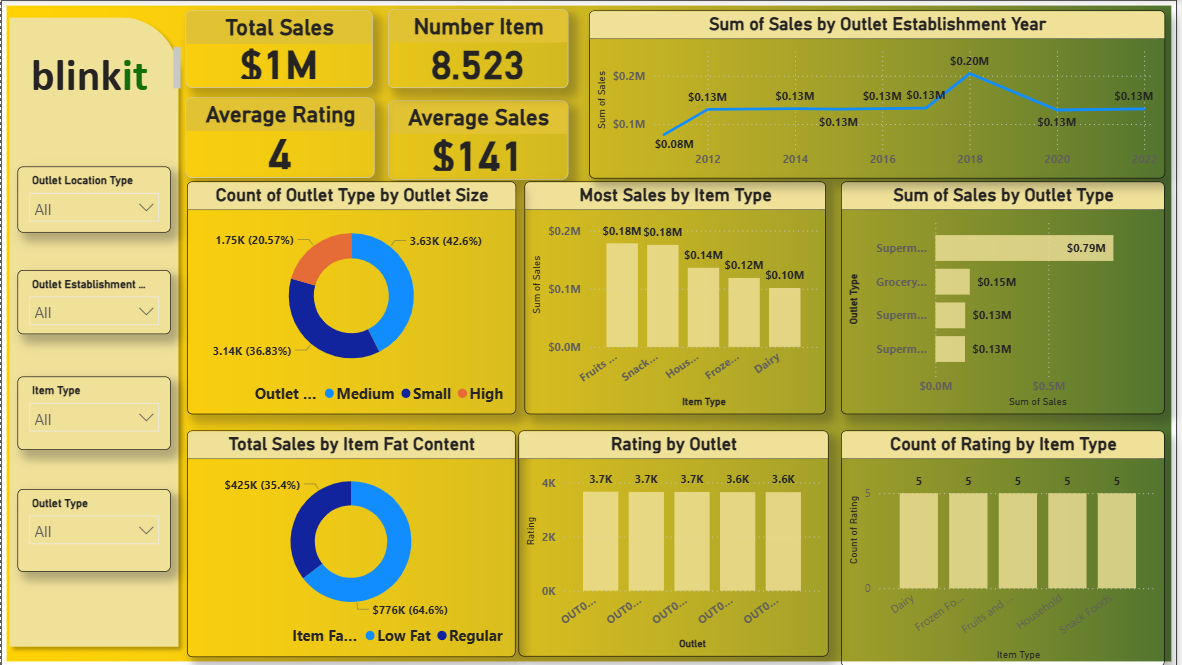

The page's visual inventory and layout, read from the dashboard file:
{"tool":"powerbi","page":{"name":"Page 1","canvas":[1280,720],"ordinal":0},"visuals":[{"type":"image","box":[0,0,1269.5,720.6],"z":0},{"type":"card","title":"Total Sales","fields":{"Values":["Sum(BlinkIT Grocery Data.Sales)"]},"box":[198.4,11.3,202.2,83.2],"z":1000},{"type":"card","title":"Average Sales","fields":{"Values":["Avg(BlinkIT Grocery Data.Sales)"]},"box":[417.6,107.7,194.6,85],"z":2000},{"type":"card","title":"Number Item","fields":{"Values":["CountNonNull(BlinkIT Grocery Data.Item Type)"]},"box":[417.6,9.4,194.6,85],"z":3000},{"type":"card","title":"Average Rating","fields":{"Values":["Avg(BlinkIT Grocery Data.Rating)"]},"box":[198.4,105.8,204.1,86.9],"z":4000},{"type":"shape","box":[0,9.7,200.8,697.9],"z":5000},{"type":"textbox","box":[0,45.3,199.2,61.5],"z":6000},{"type":"textbox","box":[35.6,93.9,163.5,55.1],"z":7000},{"type":"donutChart","title":"Total Sales by Item Fat Content","fields":{"Y":["Sum(BlinkIT Grocery Data.Sales)"],"Category":["BlinkIT Grocery Data.Item Fat Content"]},"box":[200.8,464.7,354.6,244.5],"z":8000},{"type":"columnChart","title":"Rating by Outlet","fields":{"Category":["BlinkIT Grocery Data.Outlet Identifier"],"Y":["Sum(BlinkIT Grocery Data.Rating)"]},"box":[559.4,464.9,334.5,243.8],"z":9000},{"type":"columnChart","title":"Most Sales by Item Type","fields":{"Y":["Sum(BlinkIT Grocery Data.Sales)"],"Category":["BlinkIT Grocery Data.Item Type"]},"box":[565,196.5,325,251.3],"z":10000},{"type":"donutChart","fields":{"Y":["CountNonNull(BlinkIT Grocery Data.Outlet Type)"],"Category":["BlinkIT Grocery Data.Outlet Size"]},"box":[200.3,196.5,355.3,251.3],"z":11000},{"type":"clusteredBarChart","fields":{"Y":["Sum(BlinkIT Grocery Data.Sales)"],"Category":["BlinkIT Grocery Data.Outlet Type"]},"box":[907.1,196.5,349.6,251.3],"z":12000},{"type":"lineChart","fields":{"Category":["BlinkIT Grocery Data.Outlet Establishment Year"],"Y":["Sum(BlinkIT Grocery Data.Sales)"]},"box":[635,11.3,621.7,181.4],"z":13000},{"type":"slicer","fields":{"Values":["BlinkIT Grocery Data.Outlet Location Type"]},"box":[17.8,179.7,165.2,71.2],"z":14000},{"type":"slicer","fields":{"Values":["BlinkIT Grocery Data.Outlet Establishment Year"]},"box":[17.8,291.5,165.2,69.6],"z":15000},{"type":"slicer","fields":{"Values":["BlinkIT Grocery Data.Item Type"]},"box":[17.8,406.4,165.2,79.3],"z":16000},{"type":"slicer","fields":{"Values":["BlinkIT Grocery Data.Outlet Type"]},"box":[17.8,527.9,165.2,89.1],"z":17000},{"type":"columnChart","fields":{"Category":["BlinkIT Grocery Data.Item Type"],"Y":["Count(BlinkIT Grocery Data.Rating)"]},"box":[907.1,464.9,349.6,255.1],"z":18000}]}

Visuals, with their boxes in screenshot pixels (x1, y1, x2, y2), scaled from the page's 1280x720 canvas onto the 1182x665 screenshot:
image: detection(0, 0, 1172, 664)
"Total Sales" card: detection(183, 10, 370, 87)
"Average Sales" card: detection(386, 99, 565, 178)
"Number Item" card: detection(386, 9, 565, 87)
"Average Rating" card: detection(183, 98, 372, 178)
shape: detection(0, 9, 185, 654)
textbox: detection(0, 42, 184, 99)
textbox: detection(33, 87, 184, 138)
"Total Sales by Item Fat Content" donutChart: detection(185, 429, 513, 655)
"Rating by Outlet" columnChart: detection(517, 429, 825, 655)
"Most Sales by Item Type" columnChart: detection(522, 181, 822, 414)
donutChart - CountNonNull(BlinkIT Grocery Data.Outlet Type) x BlinkIT Grocery Data.Outlet Size: detection(185, 181, 513, 414)
clusteredBarChart - Sum(BlinkIT Grocery Data.Sales) x BlinkIT Grocery Data.Outlet Type: detection(838, 181, 1160, 414)
lineChart - BlinkIT Grocery Data.Outlet Establishment Year x Sum(BlinkIT Grocery Data.Sales): detection(586, 10, 1160, 178)
slicer - BlinkIT Grocery Data.Outlet Location Type: detection(16, 166, 169, 232)
slicer - BlinkIT Grocery Data.Outlet Establishment Year: detection(16, 269, 169, 334)
slicer - BlinkIT Grocery Data.Item Type: detection(16, 375, 169, 449)
slicer - BlinkIT Grocery Data.Outlet Type: detection(16, 488, 169, 570)
columnChart - BlinkIT Grocery Data.Item Type x Count(BlinkIT Grocery Data.Rating): detection(838, 429, 1160, 664)
